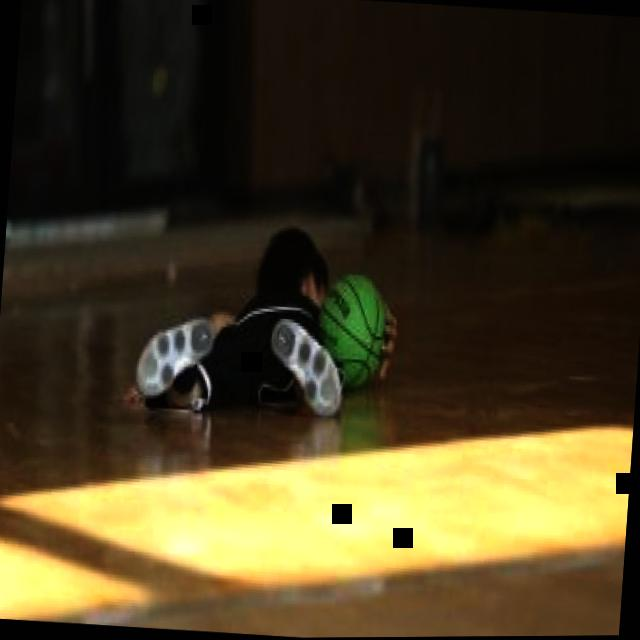Fall-Detected: (124, 181, 412, 440)
